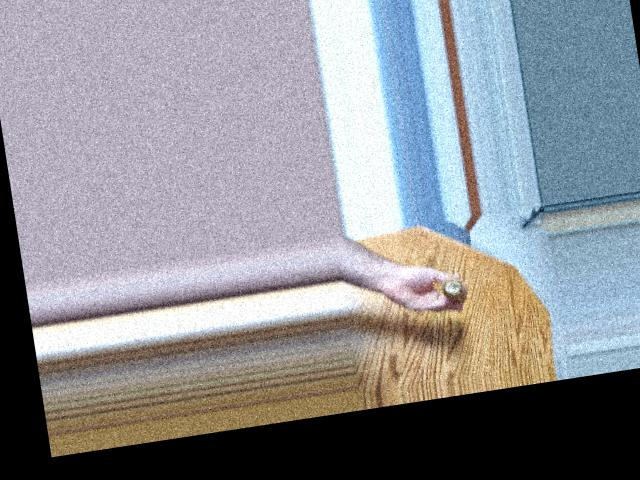sweet_potato: (441, 272, 472, 299)
